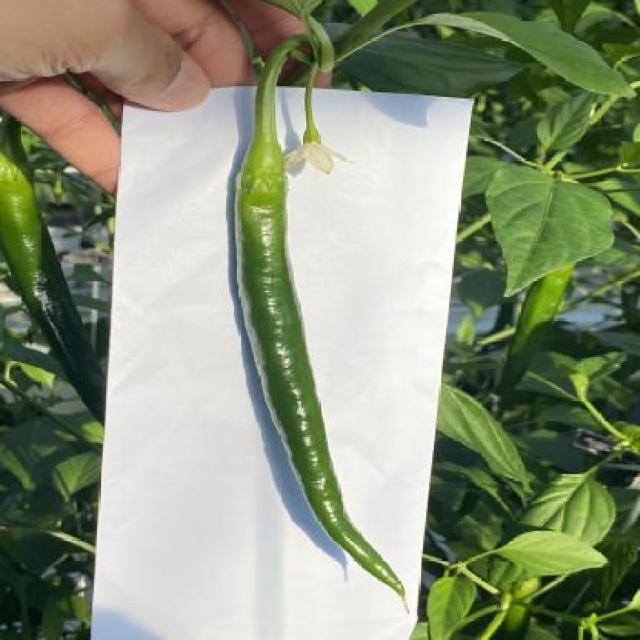green chilli: (233, 192, 404, 597)
